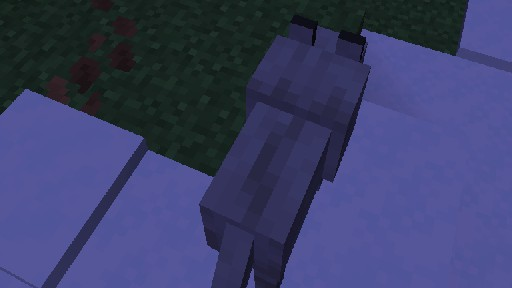wolf: (198, 14, 371, 288)
